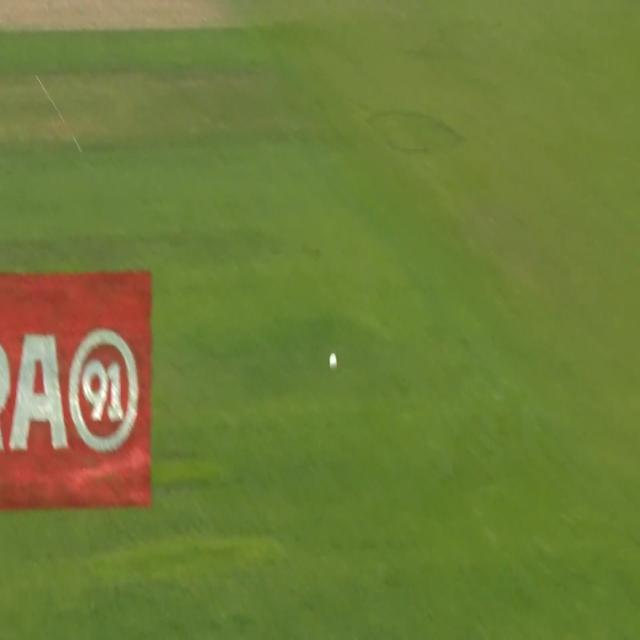ball: (324, 348, 342, 377)
